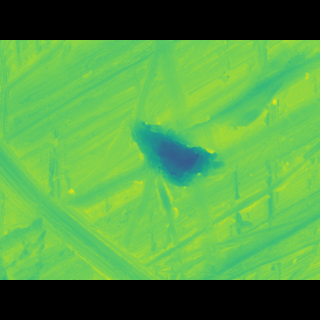Loch: (2, 142, 172, 251), (140, 183, 317, 240), (119, 125, 233, 183)
